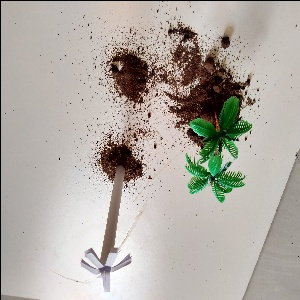plant: (183, 103, 245, 197)
weed: (83, 173, 140, 290)
